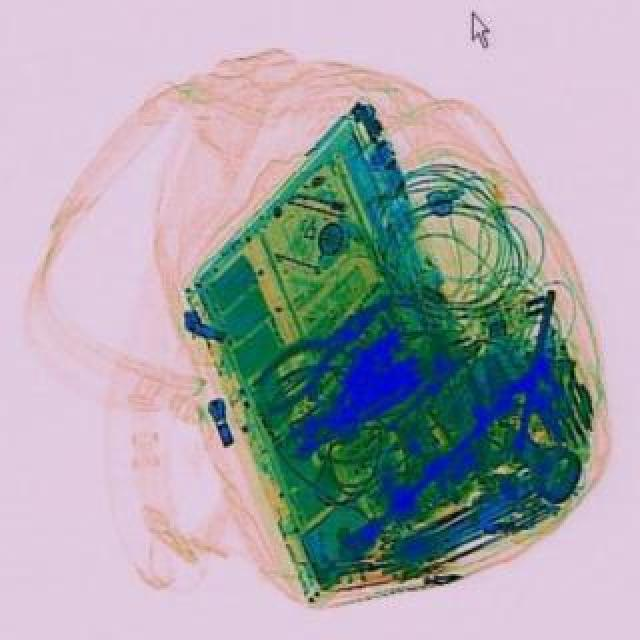wrench: (242, 282, 398, 416)
